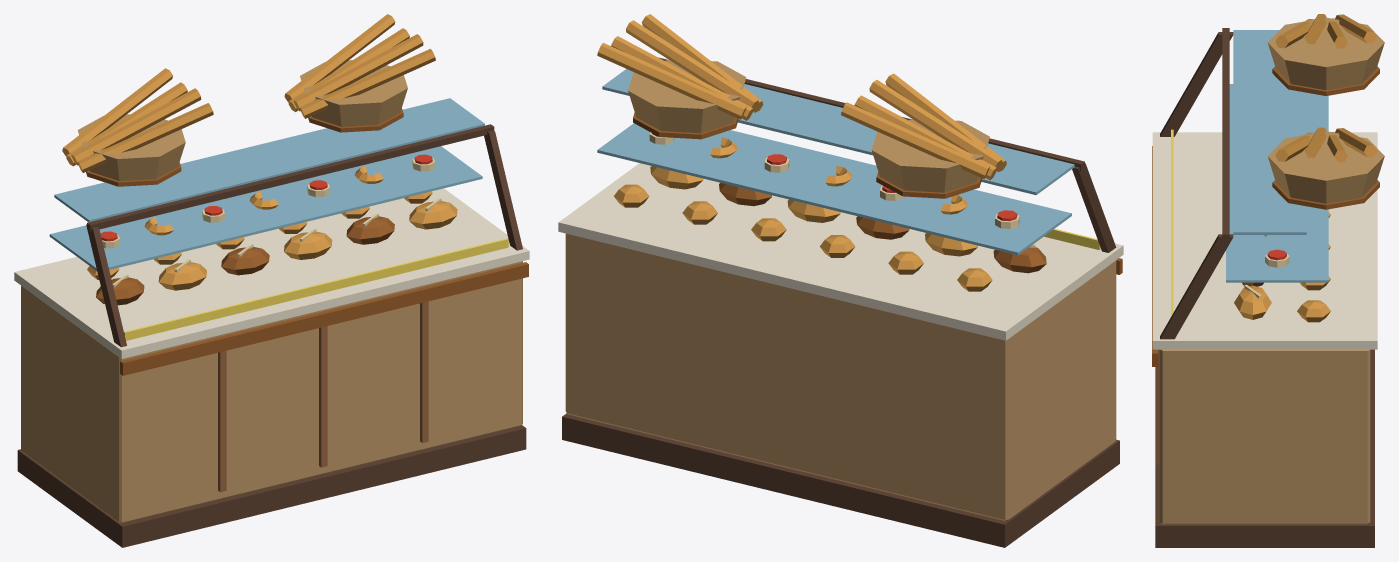
Rendered from Bakery_Counter_Glass.fbx.
3 renders of one model, left to right at view 1: azimuth 30°, elevation 25°; view 2: azimuth 150°, elevation 25°; view 3: azimuth 270°, elevation 25°, orthographic. The views are drawn at different scales.
Visible parts, largest first — view 1: Bakery_Counter_Glass; view 2: Bakery_Counter_Glass; view 3: Bakery_Counter_Glass.
Part boxes in pixels (bbox=[...]): Bakery_Counter_Glass: bbox=[14, 14, 529, 547]; Bakery_Counter_Glass: bbox=[558, 14, 1123, 547]; Bakery_Counter_Glass: bbox=[1152, 14, 1384, 547].
Bounding box in the file's own units: 2.02 × 1.74 × 0.9525.
Materials: 1 (1 with a texture image).
